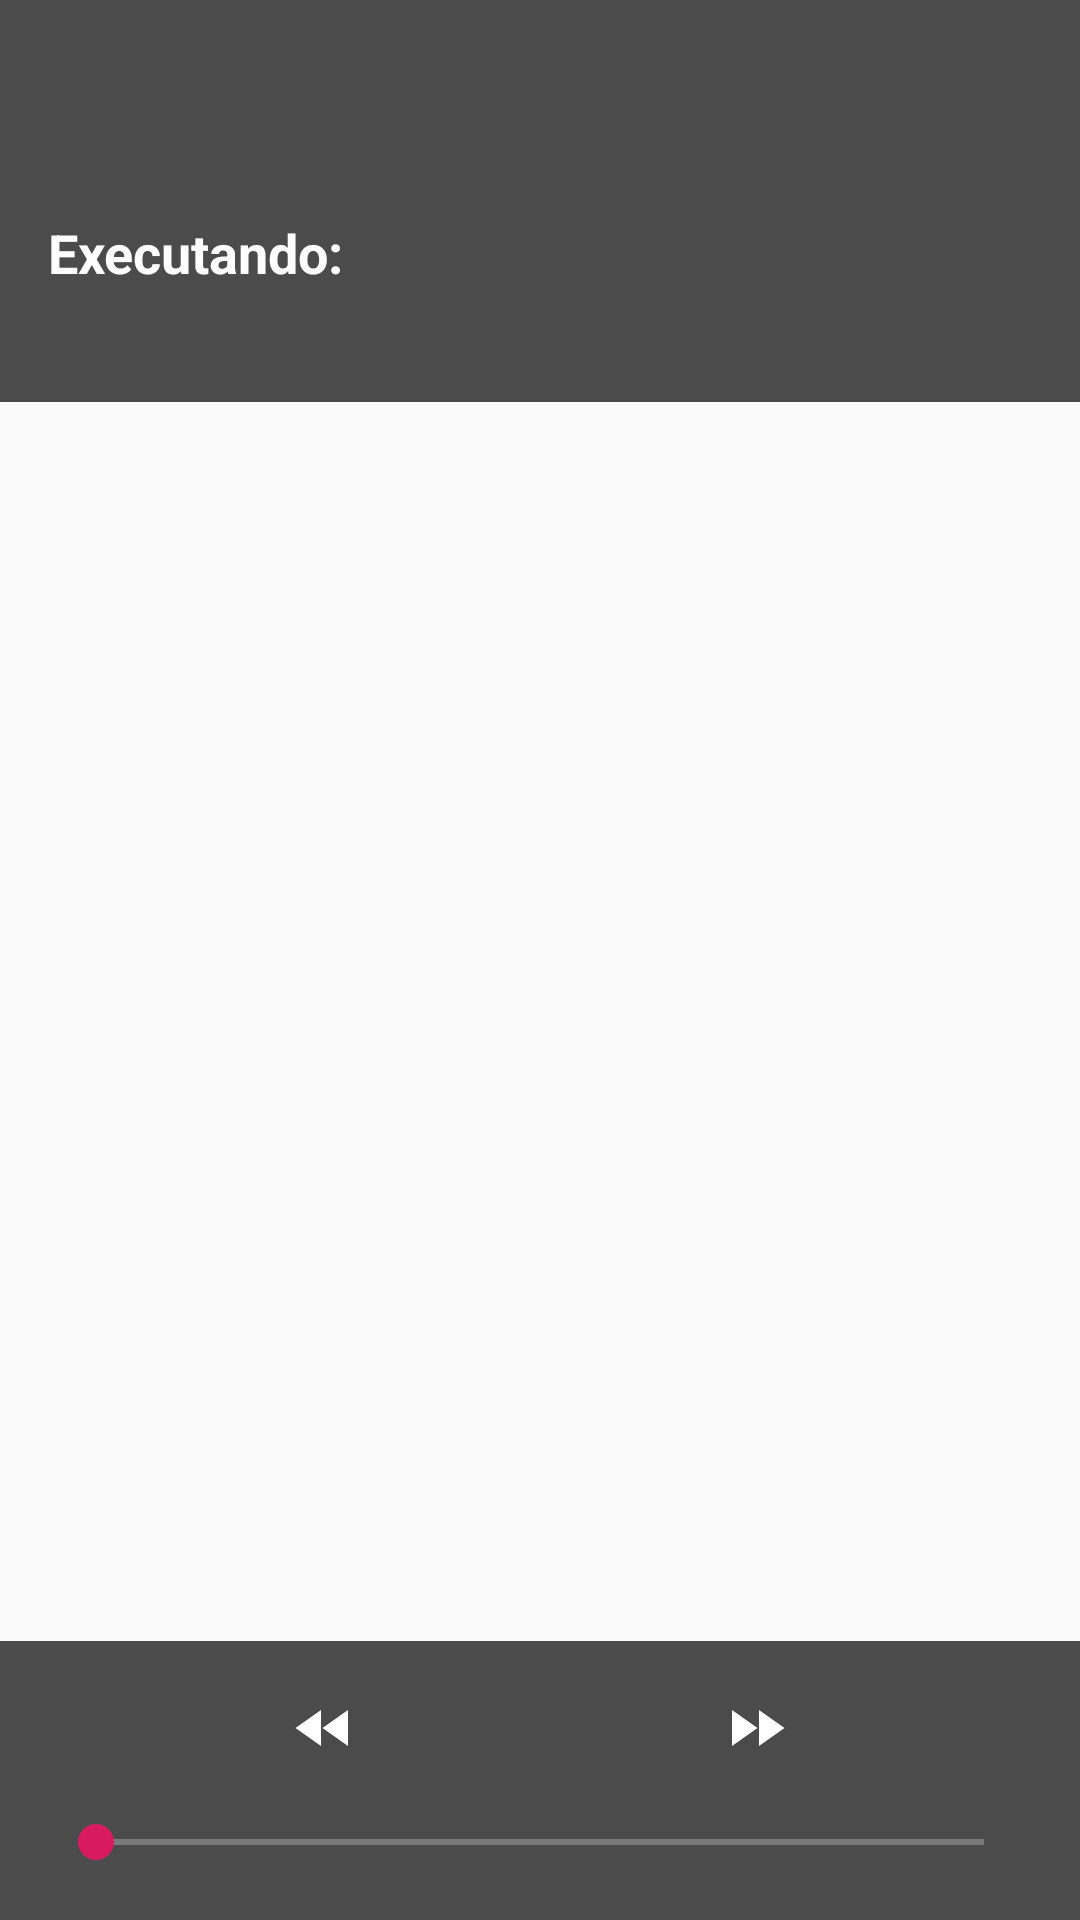

Named icons in this screenshot (1080px×1920px) and their centers, (x,y):
fast forward: (758,1728)
fast rewind: (322,1728)
